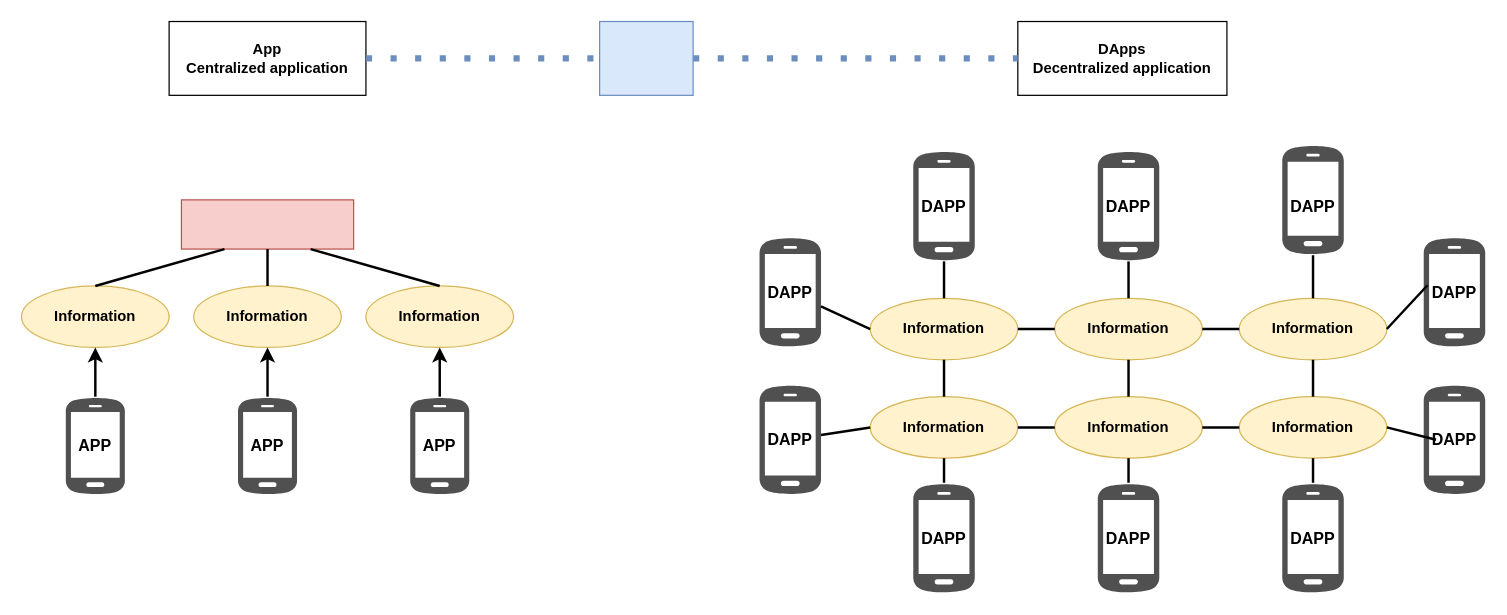
The diagram is 1507 pixels wide and 615 high, and some of its shapes have lost their labels. The centre of each missing label's shape, as x and y in pixels:
Authority Central: the point at 267,224
VS: the point at 645,57
